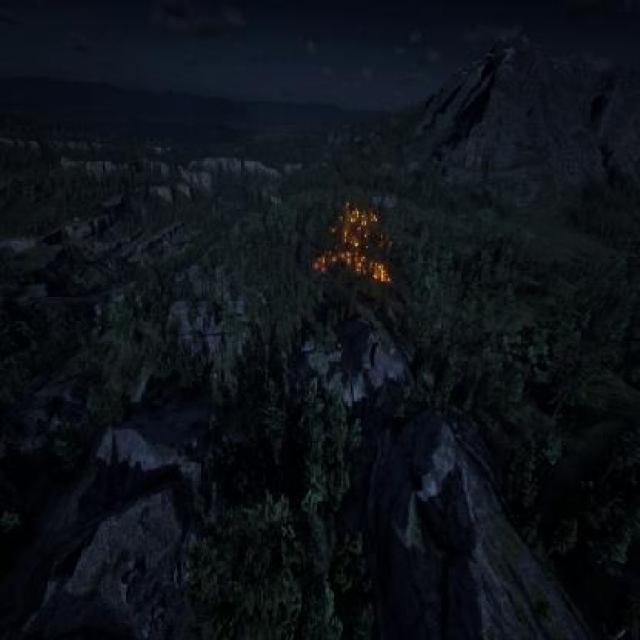Fire: (308, 193, 400, 294)
